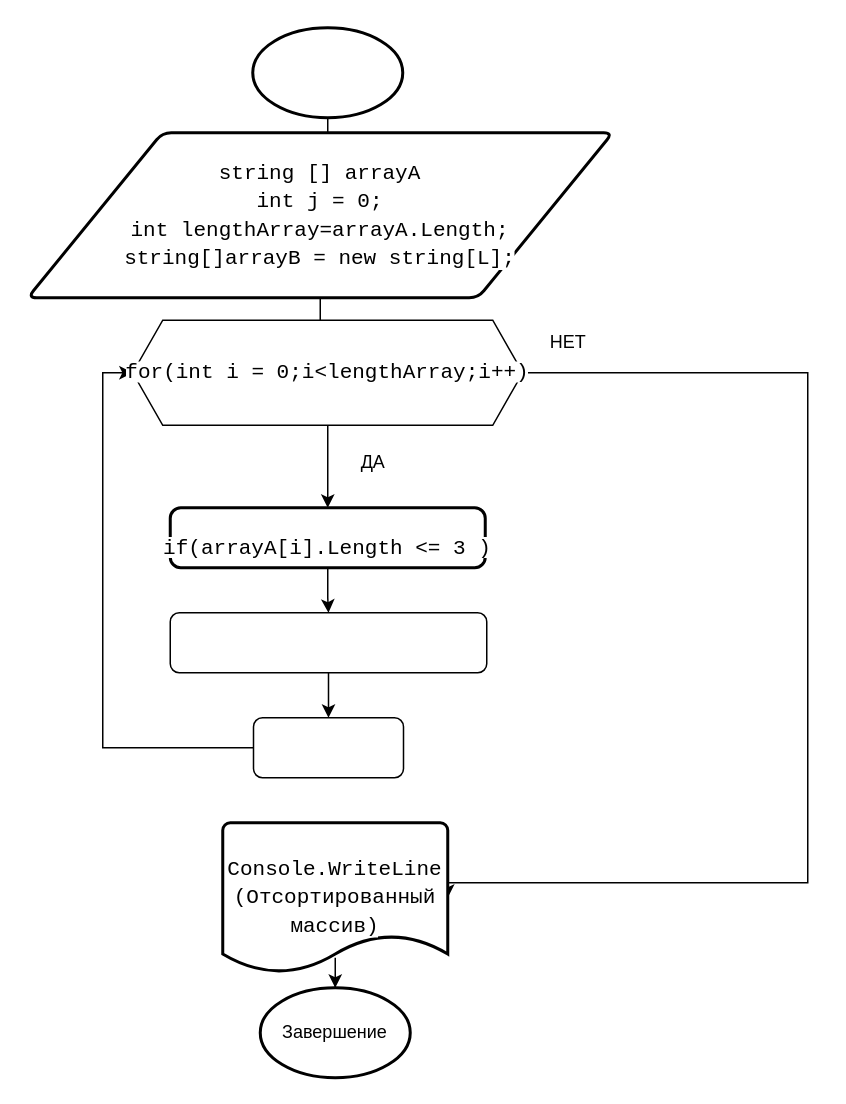
The diagram is 846 pixels wide and 1104 high, and some of its shapes have lost their labels. Each missing label, with the centre of its shape:
"arrayB[j] = arrayA[i];" goes at [328,642].
"j++;" goes at [328,747].
"Начало" goes at [327,72].
